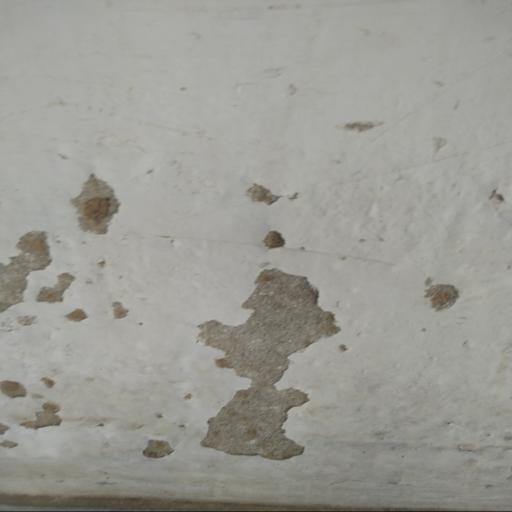peeling: (178, 248, 358, 476), (0, 214, 146, 352), (51, 150, 139, 248), (0, 365, 78, 463), (233, 166, 296, 267), (415, 250, 465, 329), (135, 431, 178, 474), (474, 171, 512, 215), (425, 127, 458, 169), (338, 117, 388, 144)
